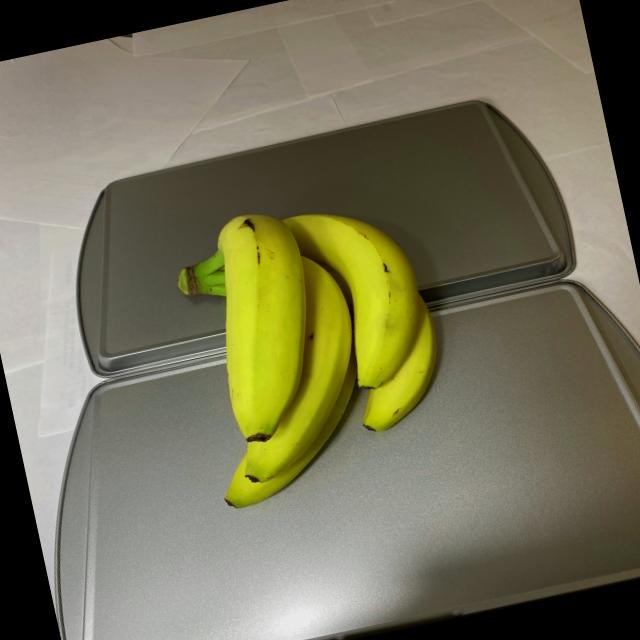banana: (160, 176, 468, 520)
